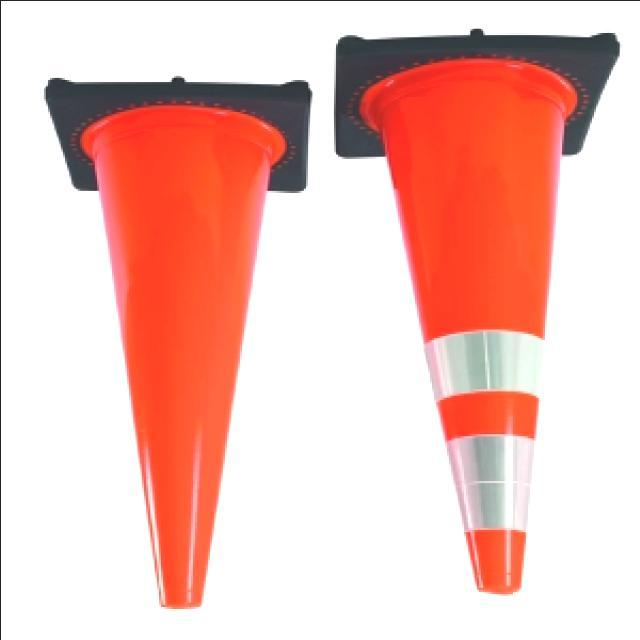traffic cone: (74, 101, 290, 610)
